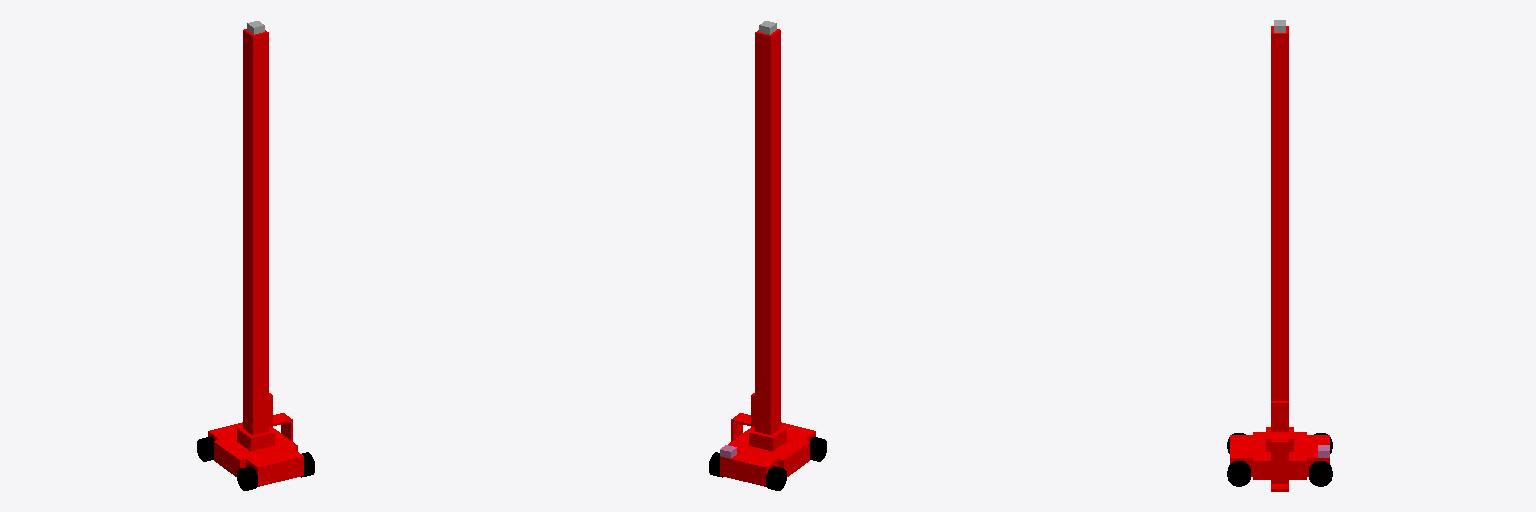
The robot description file, URDF, robot "platformbot":
<?xml version="1.0"?>
<robot name="platformbot">

 <link name="base_footprint">
   <visual>
      <origin xyz="0 0 0" rpy="0 0 0" />
      <geometry>
        <box size="0.001 0.001 0.001" />
      </geometry>
    </visual>
  </link>







  <joint name="base_link_joint" type="fixed">
    <origin xyz="0.0 0 0.05" rpy="0 0 0" />
    <parent link="base_footprint"/>
    <child link="base_link" />
  </joint>

	<link name="base_link">
    <visual>
      <geometry>
        <box size="0.292 0.227 0.0925"/>
      </geometry>
      <material name="silver">
        <color rgba="1.0 0.0 0.0 1"/>
      </material>
    </visual>
    <collision>
      <geometry>
        <box size="0.227 0.292 0.0925"/>
      </geometry>
    </collision>
    <inertial>
      <mass value="8.6"/>
      <inertia ixx="0.067238" iyy="0.043061" izz="0.098035" ixy="0" ixz="0" iyz="0"/>
    </inertial>
  </link>

	


	<link name="front_box">
    <visual>
      <geometry>
        <box size="0.231 0.1025 0.0925"/>
      </geometry>
      <material name="silver"/>
    </visual>
    <collision>
      <geometry>
        <box size="0.1025 0.231 0.0925"/>
      </geometry>
    </collision>
    <inertial>
      <mass value="3"/>
      <inertia ixx="0.015967" iyy="0.004766" izz="0.015967" ixy="0" ixz="0" iyz="0"/>
    </inertial>
  </link>

  <joint name="front_joint" type="fixed">
    <axis xyz="0 1 0"/>
    <parent link="base_link"/>
    <child link="front_box"/>
    <origin rpy="0 0 0" xyz="0 0.16475 0"/>
  </joint>



	<link name="back_box">
    <visual>
      <geometry>
        <box size="0.231 0.1025 0.0925"/>
      </geometry>
      <material name="silver"/>
    </visual>
    <collision>
      <geometry>
        <box size="0.1025 0.231 0.0925"/>
      </geometry>
    </collision>
    <inertial>
      <mass value="3"/>
      <inertia ixx="0.015967" iyy="0.004766" izz="0.015967" ixy="0" ixz="0" iyz="0"/>
    </inertial>
  </link>

  <joint name="back_joint" type="fixed">
    <axis xyz="0 1 0"/>
    <parent link="base_link"/>
    <child link="back_box"/>
    <origin rpy="0 0 0" xyz="0 -0.16475 0"/>
  </joint>


	<link name="mounting_base">
    <visual>
      <geometry>
        <box size="0.120 0.120 0.065"/>
      </geometry>
      <material name="silver"/>
    </visual>
    <collision>
      <geometry>
        <box size="0.120 0.120 0.065"/>
      </geometry>
    </collision>
    <inertial>
      <mass value="3"/>
      <inertia ixx="0.00395148" iyy="0.00395148" izz="0.006110208" ixy="0" ixz="0" iyz="0"/>
    </inertial>
  </link>

  <joint name="mounting_base_joint" type="fixed">
    <axis xyz="0 0 1"/>
    <parent link="base_link"/>
    <child link="mounting_base"/>
    <origin rpy="0 0 0" xyz="0 0 0.0775"/>
  </joint>


	<link name="lift">
    <visual>
      <geometry>
        <box size="0.08 0.08 1.9"/>
      </geometry>
      <material name="silver"/>
    </visual>
    <collision>
      <geometry>
        <box size="0.08 0.08 1.9"/>
      </geometry>
    </collision>
    <inertial>
      <mass value="5"/>
      <inertia ixx="1.5068333" iyy="1.5068333" izz="0.0053333" ixy="0" ixz="0" iyz="0"/>
    </inertial>
  </link>

  <joint name="lift_joint" type="fixed">
    <axis xyz="0 0 1"/>
    <parent link="mounting_base"/>
    <child link="lift"/>
    <origin rpy="0 0 0" xyz="0 0 0.9825"/>
  </joint>


	<link name="slider">
    <visual>
      <geometry>
        <box size="0.02 0.08 0.15"/>
      </geometry>
      <material name="silver"/>
    </visual>
    <collision>
      <geometry>
        <box size="0.02 0.08 0.15"/>
      </geometry>
    </collision>
    <inertial>
      <mass value="0.6528"/>
      <inertia ixx="0.00157216" iyy="0.00124576" izz="0.00036992" ixy="0" ixz="0" iyz="0"/>
    </inertial>
  </link>

  <joint name="slider_joint" type="prismatic">
    <axis xyz="0 0 1"/>
    <parent link="lift"/>
    <child link="slider"/>
    <origin rpy="0 0 0" xyz="0.05 0 -0.855"/>
		<limit lower="0" upper="1.73" effort="20000.0" velocity="0.02" />
		<dynamics damping="100.0" />
  </joint>


	<link name="horizontal_beam">
    <visual>
      <geometry>
        <box size="0.1 0.08 0.01"/>
      </geometry>
      <material name="silver"/>
    </visual>
    <collision>
      <geometry>
        <box size="0.1 0.08 0.01"/>
      </geometry>
    </collision>
    <inertial>
      <mass value="0.2176"/>
      <inertia ixx="0.000117867" iyy="0.000183147" izz="0.000297387" ixy="0" ixz="0" iyz="0"/>
    </inertial>
  </link>

  <joint name="horizontal_beam_joint" type="fixed">
    <axis xyz="1 0 1"/>
    <parent link="slider"/>
    <child link="horizontal_beam"/>
    <origin rpy="0 0 0" xyz="0.06 0 -0.07"/>
  </joint>

	<link name="vertical_beam">
    <visual>
      <geometry>
        <box size="0.01 0.08 0.2"/>
      </geometry>
      <material name="silver"/>
    </visual>
    <collision>
      <geometry>
        <box size="0.01 0.08 0.2"/>
      </geometry>
    </collision>
    <inertial>
      <mass value="0.4352"/>
      <inertia ixx="0.001682773" iyy="0.001454293" izz="0.000235733" ixy="0" ixz="0" iyz="0"/>
    </inertial>
  </link>

  <joint name="vertical_beam_joint" type="fixed">
    <axis xyz="1 0 1"/>
    <parent link="horizontal_beam"/>
    <child link="vertical_beam"/>
    <origin rpy="0 0 0" xyz="0.045 0 -0.105"/>
  </joint>

	<link name="key_holder">
    <visual>
      <geometry>
        <box size="0.05 0.08 0.01"/>
      </geometry>
      <material name="silver"/>
    </visual>
    <collision>
      <geometry>
        <box size="0.05 0.08 0.01"/>
      </geometry>
    </collision>
    <inertial>
      <mass value="0.4352"/>
      <inertia ixx="0.000058933" iyy="0.000023573" izz="0.000080693" ixy="0" ixz="0" iyz="0"/>
    </inertial>
  </link>

  <joint name="key_holder_joint" type="fixed">
    <axis xyz="1 0 1"/>
    <parent link="vertical_beam"/>
    <child link="key_holder"/>
    <origin rpy="0 0 0" xyz="0.030 0 -0.095"/>
  </joint>







	<link name="back_right_wheel">
    <visual>
      <geometry>
        <cylinder length="0.049" radius="0.0508"/>
      </geometry>
      <material name="orange">
        <color rgba="0 0 0 1"/>
      </material>
    </visual>
    <collision>
      <geometry>
        <cylinder length="0.049" radius="0.0508"/>
      </geometry>
    </collision>
    <inertial>
      <mass value="0.35"/>
      <inertia ixx="0.000295835" iyy="0.000451612" izz="0.000295835" ixy="0" ixz="0" iyz="0"/>
    </inertial>
  </link>

  <joint name="back_right_wheel_joint" type="continuous">
    <axis xyz="0 0 1"/>
    <parent link="base_link"/>
    <child link="back_right_wheel"/>
    <origin rpy="-1.5708 0 1.5708" xyz="-0.142 -0.1742 -.0178"/>
  </joint>



  <link name="front_right_wheel">
    <visual>
      <geometry>
        <cylinder length="0.049" radius="0.0508"/>
      </geometry>
      <material name="black">
        <color rgba="0 0 0 1"/>
      </material>
    </visual>
    <collision>
      <geometry>
        <cylinder length="0.049" radius="0.0508"/>
      </geometry>
    </collision>
    <inertial>
     	<mass value="0.35"/>
      <inertia ixx="0.000295835" iyy="0.000451612" izz="0.000295835" ixy="0" ixz="0" iyz="0"/>
    </inertial>
  </link>

  <joint name="front_right_wheel_joint" type="continuous">
    <axis xyz="0 0 1"/>
    <parent link="base_link"/>
    <child link="front_right_wheel"/>
    <origin rpy="-1.5708 0 1.5708" xyz="-0.142 0.1742 -.0178"/>
  </joint>



  <link name="back_left_wheel">
    <visual>
      <geometry>
        <cylinder length="0.049" radius="0.0508"/>
      </geometry>
      <material name="black"/>
    </visual>
    <collision>
      <geometry>
        <cylinder length="0.049" radius="0.0508"/>
      </geometry>
    </collision>
    <inertial>
      <mass value="0.35"/>
      <inertia ixx="0.000295835" iyy="0.000451612" izz="0.000295835" ixy="0" ixz="0" iyz="0"/>
    </inertial>
  </link>

  <joint name="back_left_wheel_joint" type="continuous">
    <axis xyz="0 0 1"/>
    <parent link="base_link"/>
    <child link="back_left_wheel"/>
    <origin rpy="-1.5708 0 1.5708" xyz="0.142 -0.1742 -.0178"/>
  </joint>



	<link name="front_left_wheel">
    <visual>
      <geometry>
        <cylinder length="0.049" radius="0.0508"/>
      </geometry>
      <material name="black"/>
    </visual>
    <collision>
      <geometry>
        <cylinder length="0.049" radius="0.0508"/>
      </geometry>
    </collision>
    <inertial>
      <mass value="0.35"/>
      <inertia ixx="0.000295835" iyy="0.000451612" izz="0.000295835" ixy="0" ixz="0" iyz="0"/>
    </inertial>
  </link>

  <joint name="front_left_wheel_joint" type="continuous">
    <axis xyz="0 0 1"/>
    <parent link="base_link"/>
    <child link="front_left_wheel"/>
    <origin rpy="-1.5708 0 1.5708" xyz="0.142 0.1742 -.0178"/>
  </joint>


<link name="beacon_1">
  <visual>
    <geometry>
      <box size= "0.055 0.055 0.033"/>
    </geometry>
  </visual>
</link>




<link name="beacon_2">
  <visual>
    <geometry>
      
      <box size= "0.055 0.055 0.033"/>
    </geometry>
  </visual>
</link>


<joint name = "beacon_1_joint" type="fixed">
    <parent link="base_link"/>
    <child link="beacon_1" />
    <origin xyz="0.088 0.1885 0.06275" rpy="0 0 0" />	
</joint>




1<joint name = "beacon_2_joint" type="fixed">
    <parent link="lift"/>
    <child link="beacon_2" />
    <origin xyz="0 0 0.9665" rpy="0 0 0" />	
</joint>

  <gazebo reference="beacon_1">
    <material>Gazebo/Orange</material>
  </gazebo>

  <gazebo reference="beacon_2">
    <material>Gazebo/Orange</material>
  </gazebo>


	<gazebo>
    <plugin name="object_controller" filename="libgazebo_ros_planar_move.so">
      <commandTopic>cmd_vel</commandTopic>
      <odometryTopic>odom</odometryTopic>
      <odometryFrame>odom</odometryFrame>
      <odometryRate>20.0</odometryRate>
      <robotBaseFrame>base_footprint</robotBaseFrame>
    </plugin>
  </gazebo>





</robot>

--- Facts derived from the render (not from the file) ---
Views: 3 orthographic renders of the robot side by side, from view 1: azimuth 30°, elevation 25°; view 2: azimuth 150°, elevation 25°; view 3: azimuth 270°, elevation 25°.
Model platformbot with 16 links and 15 joints (4 continuous, 1 prismatic, 10 fixed), rooted at base_footprint, posed all joints at 0.
Visible links, largest first — view 1: lift, back_box, base_link, mounting_base; view 2: lift, base_link, front_box, mounting_base; view 3: lift, base_link, vertical_beam, back_box, slider.
Boxes of the visible links, x1,y1,x2,y2 form: lift: (243, 29, 268, 435); back_box: (246, 448, 303, 486); base_link: (214, 427, 297, 476); mounting_base: (237, 427, 274, 451); lift: (755, 29, 780, 435); base_link: (728, 427, 809, 476); front_box: (720, 449, 777, 486); mounting_base: (749, 427, 786, 451); lift: (1271, 26, 1288, 400); base_link: (1253, 432, 1306, 479); vertical_beam: (1271, 444, 1288, 483); back_box: (1230, 435, 1252, 476); slider: (1271, 401, 1288, 431).
Bounding box of the posed robot: 0.3765 × 0.45 × 2.11 m (x, y, z).
Geometry: primitives only (box / cylinder / sphere), no mesh files.
